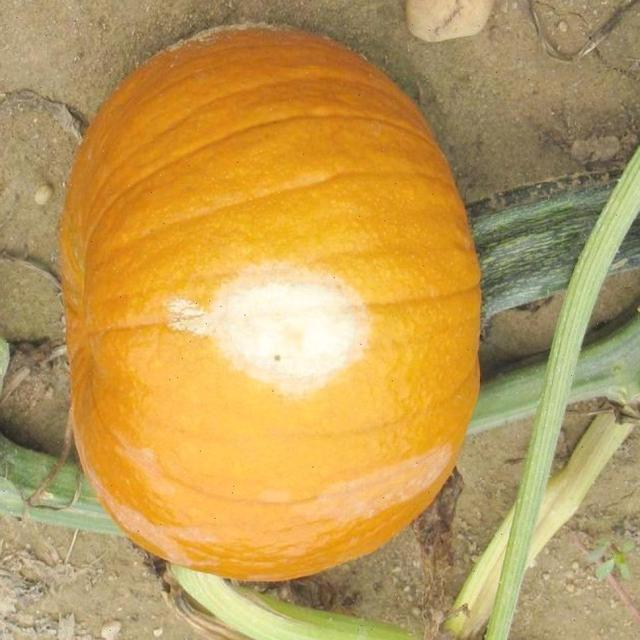Sunscald Fruit: (104, 180, 268, 266)
